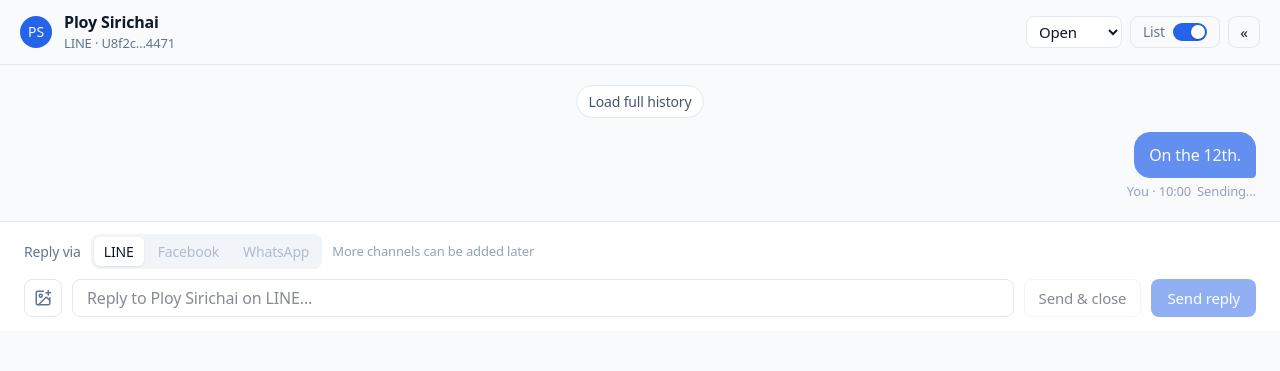
paging (D-026) › requests the initial page on mount and a cursor page on demand
Click the button "Load full history": coordinates (640, 101) top-left (576, 84), bottom-right (704, 118)
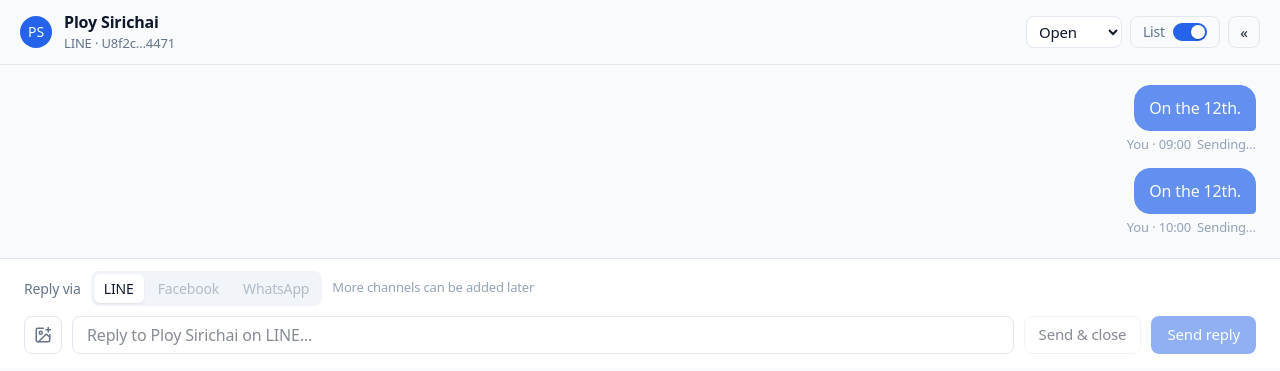
Now the number of elements with test id "message-bubble" is 2, box top-left (1127, 84), bottom-right (1256, 154); top-left (1127, 168), bottom-right (1256, 238)
